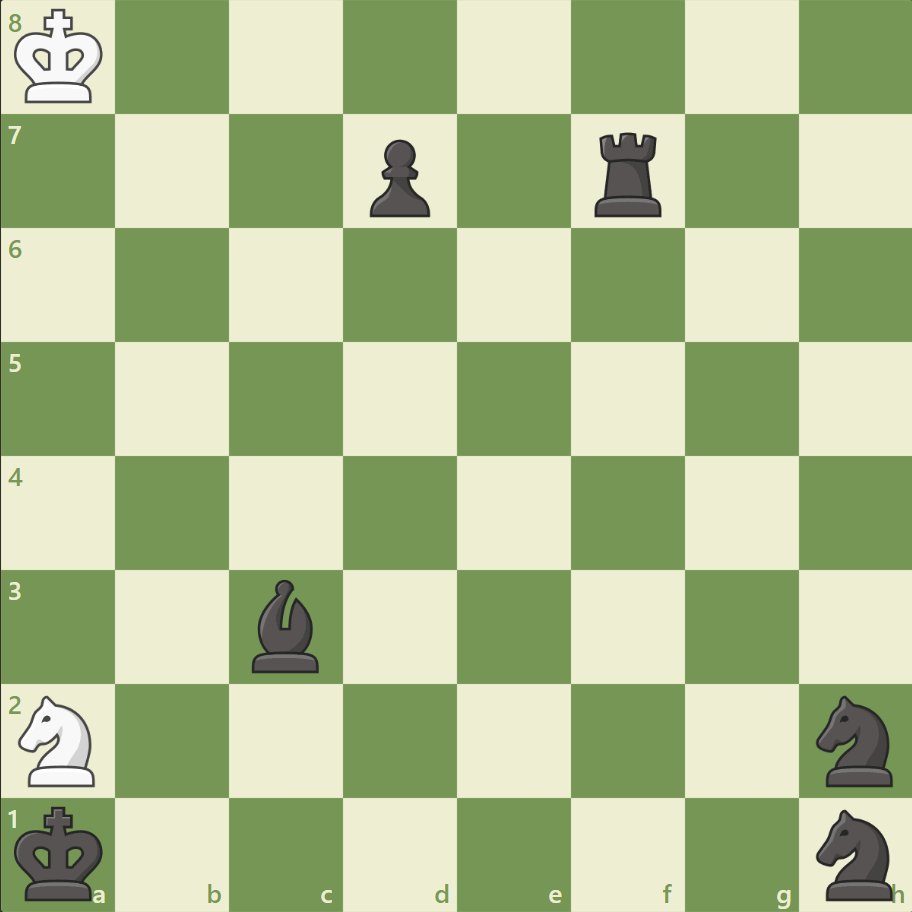K: (11, 4, 111, 112)
N: (11, 688, 108, 791)
b: (244, 574, 328, 676)
k: (11, 798, 111, 906)
n: (806, 688, 903, 791), (806, 802, 903, 904)
p: (361, 132, 435, 223)
r: (587, 125, 670, 222)
